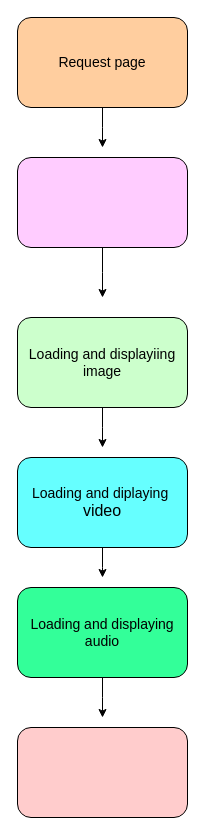
The diagram is 205 pixels wide and 835 high, and some of its shapes have lost their labels. The shapes that lost their labels are listed below. From the top down, each one's centre as x and y in pixels, then its label:
the point at 102,202: Displaying movie table
the point at 102,772: Page ready
